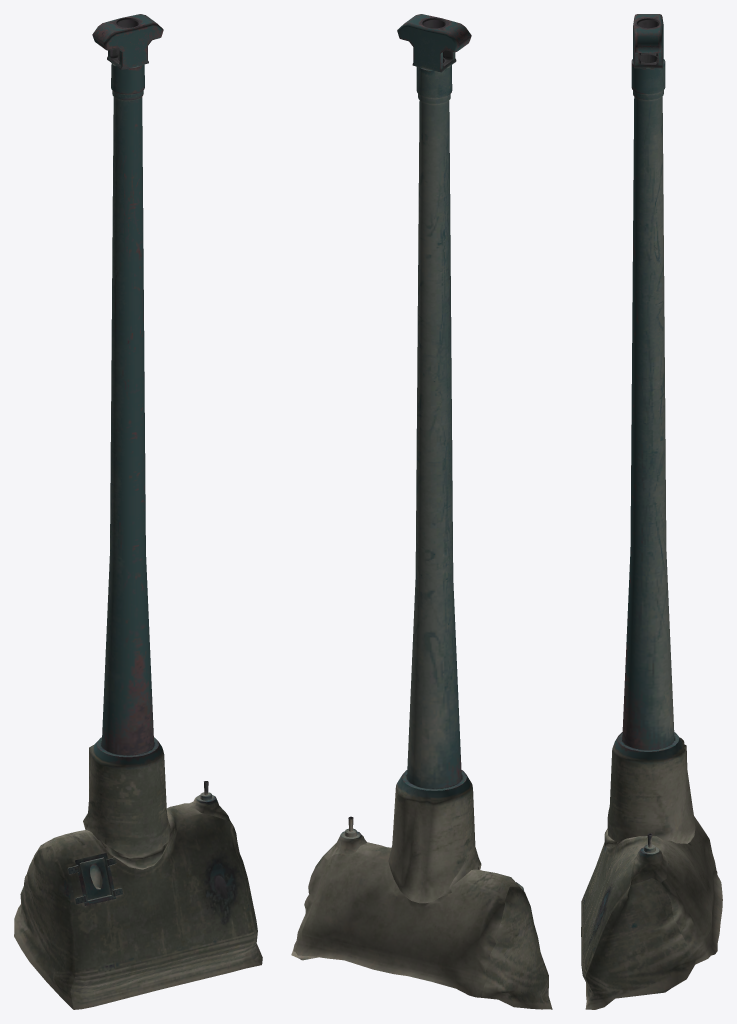
File: Gun_01.glb
3 renders of one model, left to right at view 1: azimuth 30°, elevation 25°; view 2: azimuth 150°, elevation 25°; view 3: azimuth 270°, elevation 25°, orthographic. The views are drawn at different scales.
Visible parts, largest first — view 1: set_0_group_0; view 2: set_0_group_0; view 3: set_0_group_0.
Part boxes in pixels (box(x1,y1,x2,y2)): set_0_group_0: box(14, 14, 262, 1009); set_0_group_0: box(291, 14, 552, 1009); set_0_group_0: box(581, 14, 722, 1009).
Bounding box in the file's own units: 1.66 × 7 × 0.9589.
1 material, 1 textured.
